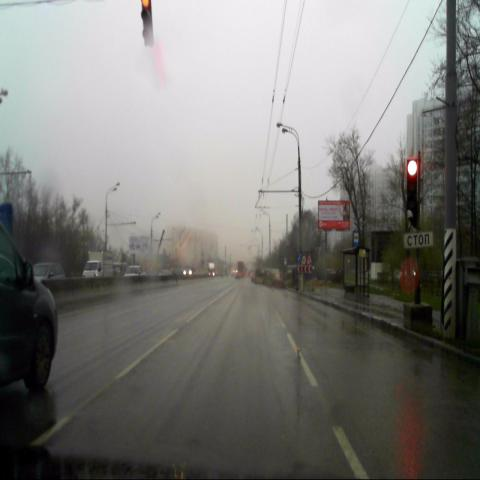6_16: (404, 231, 433, 249)
